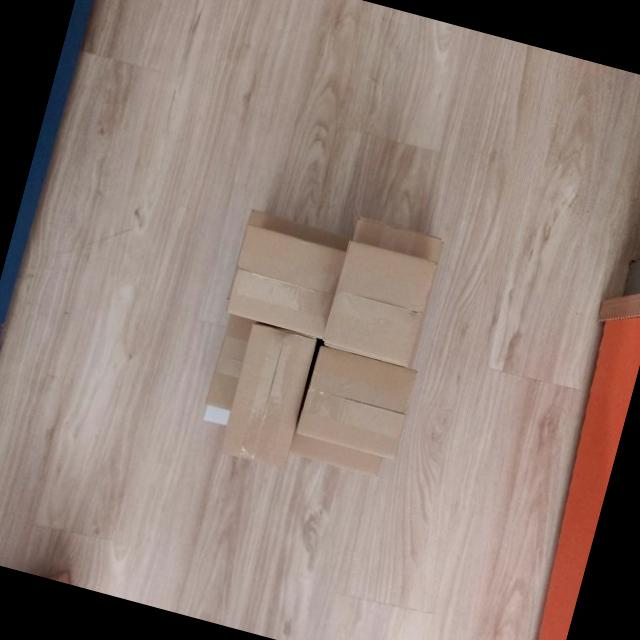box: (319, 238, 439, 368), (294, 341, 421, 462), (218, 323, 317, 471), (227, 224, 345, 342)
